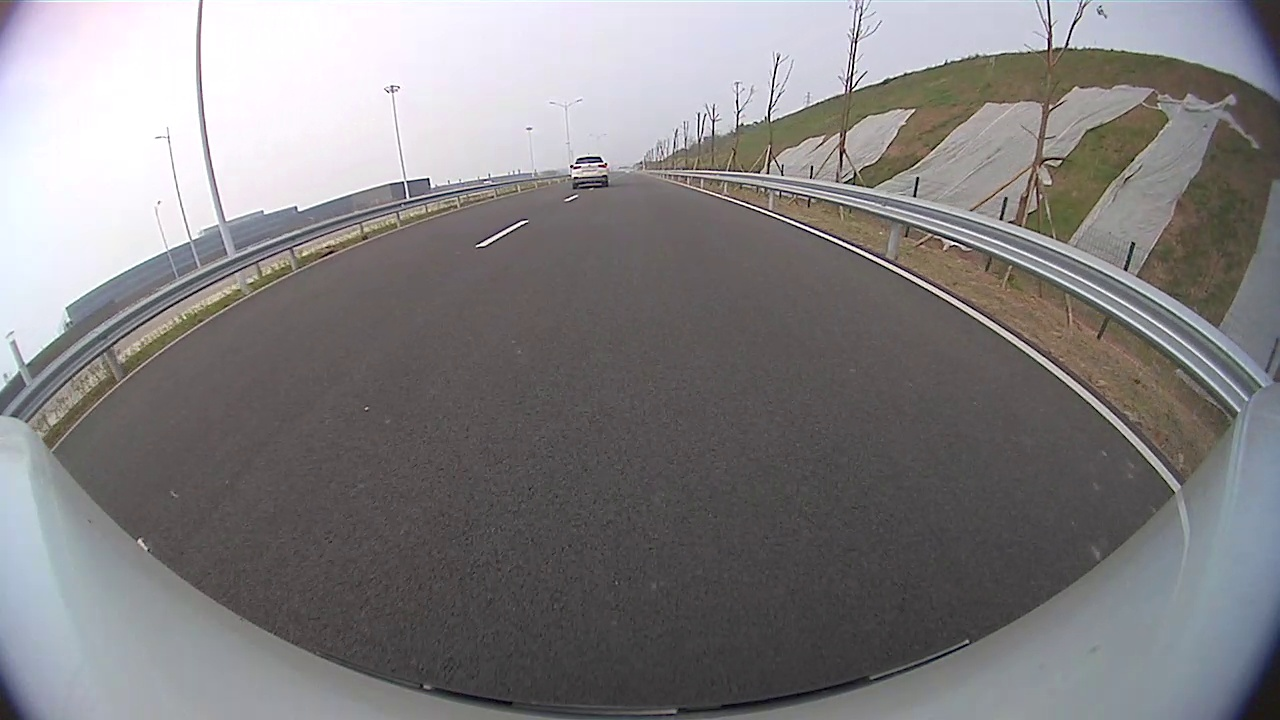car: (570, 155, 609, 190)
